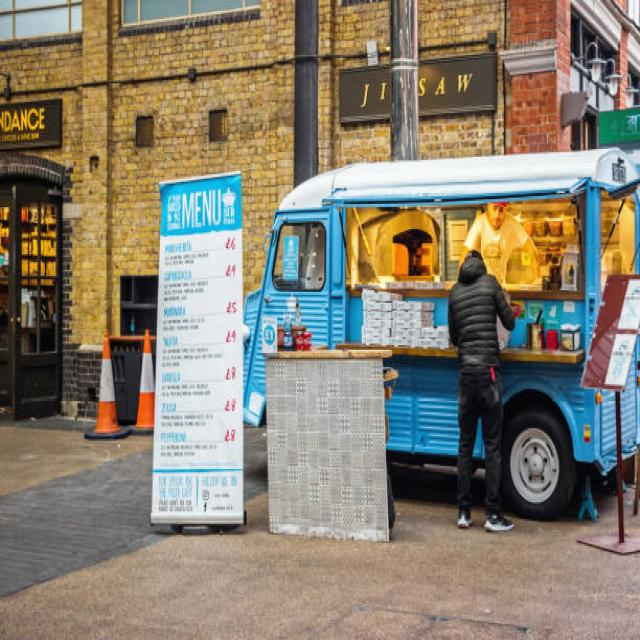Emperan: (142, 127, 640, 566)
